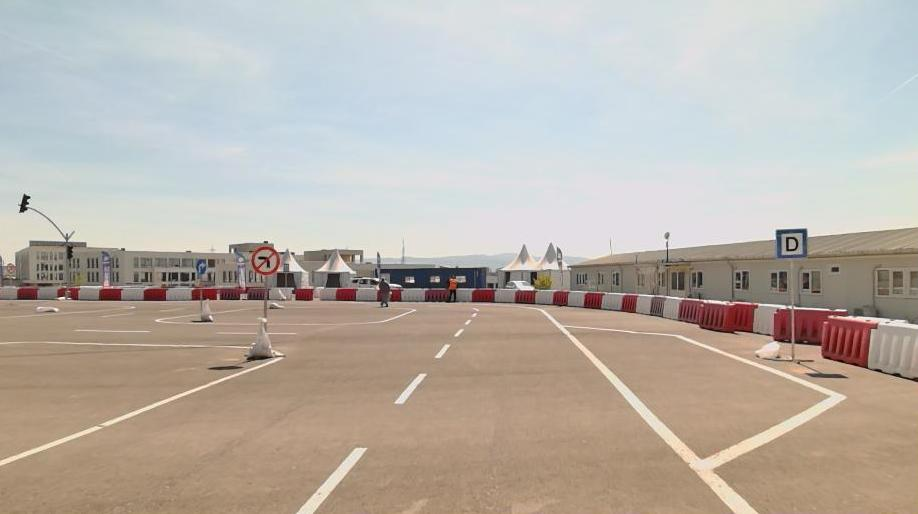nesne: (0, 296, 764, 513), (0, 304, 481, 512), (288, 306, 760, 512), (537, 305, 759, 512), (455, 286, 916, 378), (565, 322, 849, 470), (561, 324, 846, 469), (0, 347, 283, 467), (771, 306, 886, 367), (0, 283, 378, 301), (295, 446, 366, 513), (869, 317, 916, 378), (678, 299, 755, 332), (752, 302, 816, 335), (0, 340, 251, 348), (243, 316, 272, 360), (391, 371, 427, 405), (775, 227, 807, 259), (191, 286, 269, 299), (249, 242, 281, 273), (600, 289, 623, 310), (164, 284, 193, 300), (660, 296, 681, 318), (492, 287, 518, 304), (36, 282, 61, 299), (397, 286, 425, 301), (422, 287, 449, 302), (470, 288, 496, 303), (72, 326, 149, 331), (432, 339, 452, 358), (634, 292, 653, 312), (581, 290, 602, 308), (621, 291, 639, 312), (56, 284, 81, 299), (77, 284, 101, 299), (512, 288, 536, 303), (310, 286, 337, 299), (532, 289, 555, 304), (565, 288, 584, 306), (649, 294, 666, 314), (377, 276, 389, 304), (144, 285, 166, 300), (199, 297, 212, 322), (332, 287, 357, 300), (446, 272, 458, 299), (17, 285, 40, 299), (121, 287, 144, 301), (266, 288, 294, 299), (99, 286, 122, 299), (355, 286, 378, 299), (552, 288, 569, 305), (292, 286, 312, 299), (456, 288, 474, 302), (2, 286, 18, 299), (388, 286, 401, 302), (454, 325, 462, 336), (462, 316, 473, 324)
